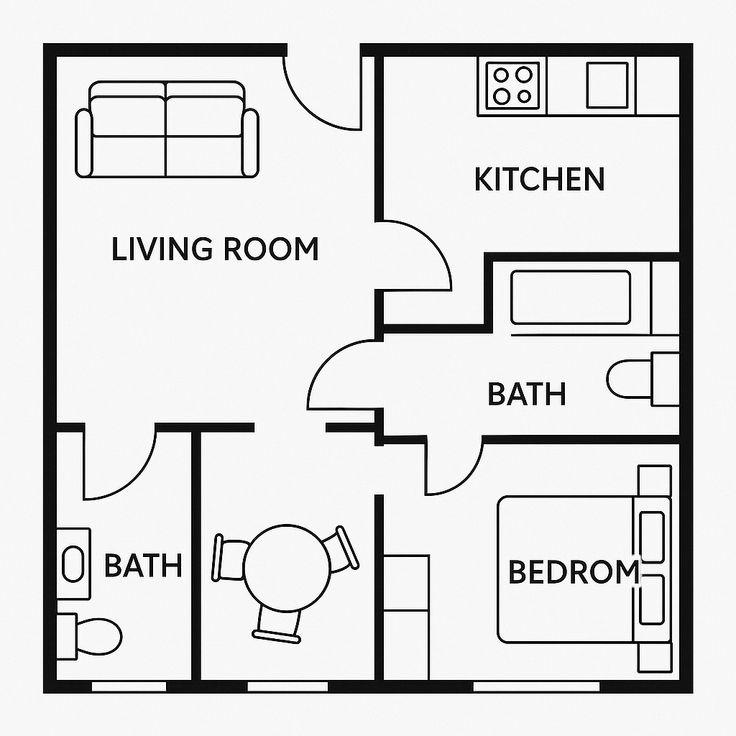wall: (679, 42, 694, 694), (43, 42, 57, 694), (43, 43, 694, 57), (43, 680, 694, 694), (374, 42, 385, 694), (43, 422, 385, 433), (374, 435, 694, 445), (191, 422, 201, 694), (484, 251, 693, 263), (373, 324, 493, 333), (483, 252, 493, 333)
